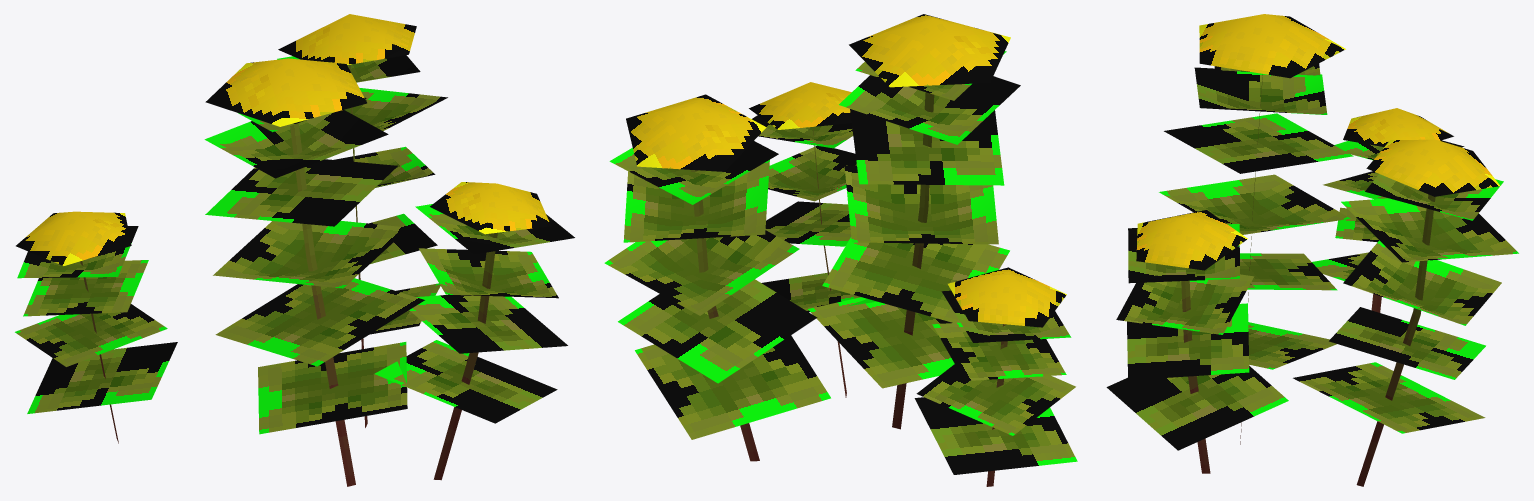
File: plants_flower04.gltf
3 views of the same model, side by side, from view 1: azimuth 30°, elevation 25°; view 2: azimuth 150°, elevation 25°; view 3: azimuth 270°, elevation 25° (orthographic). The views are drawn at different scales.
Parts seen in each view (by area): view 1: plants_flower04; view 2: plants_flower04; view 3: plants_flower04.
Part boxes in pixels (left/top/right/bottom): plants_flower04: left=15, top=14, right=574, bottom=486; plants_flower04: left=604, top=14, right=1077, bottom=486; plants_flower04: left=1106, top=14, right=1518, bottom=486.
Bounding box in the file's own units: 0.5498 × 0.5249 × 0.4755.
Materials: 1 (1 with a texture image).
